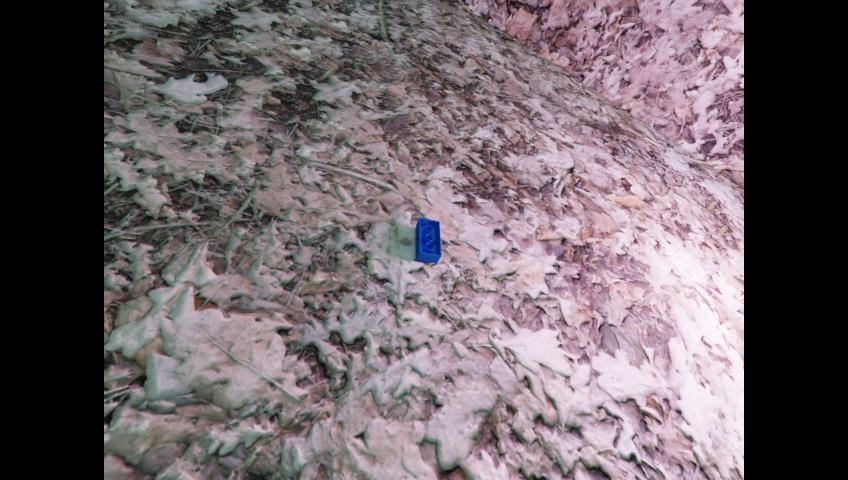4x2_blue: (416, 216, 440, 263)
